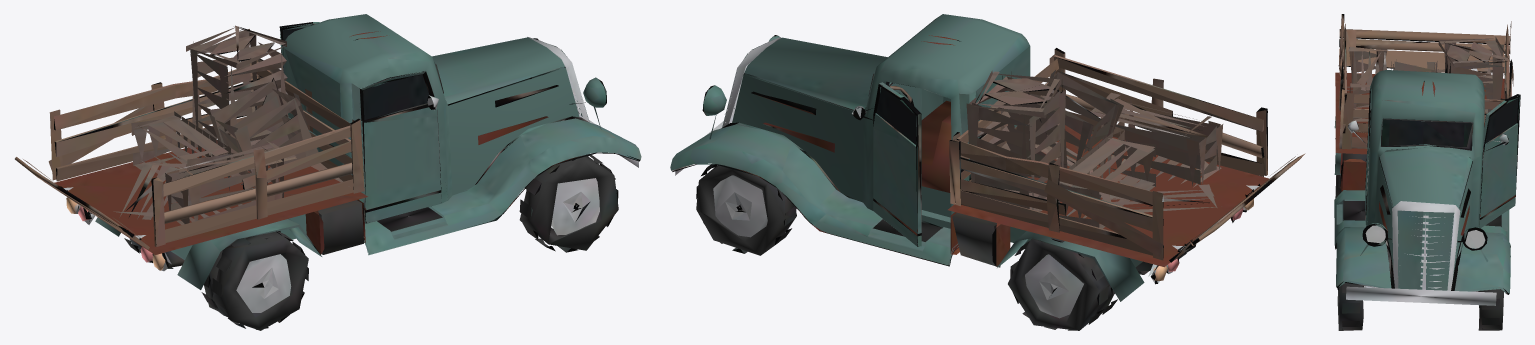
The model's file is car_c.glb.
3 renders of one model, left to right at view 1: azimuth 30°, elevation 25°; view 2: azimuth 150°, elevation 25°; view 3: azimuth 270°, elevation 25°, orthographic. The views are drawn at different scales.
Parts seen in each view (by area): view 1: CarC; view 2: CarC; view 3: CarC.
Boxes of the visible parts, <box> form: CarC: <box>15,14,641,330</box>; CarC: <box>670,14,1305,330</box>; CarC: <box>1334,14,1520,330</box>.
Bounding box in the file's own units: 4.63 × 1.84 × 1.73.
Materials: 1 (1 with a texture image).
